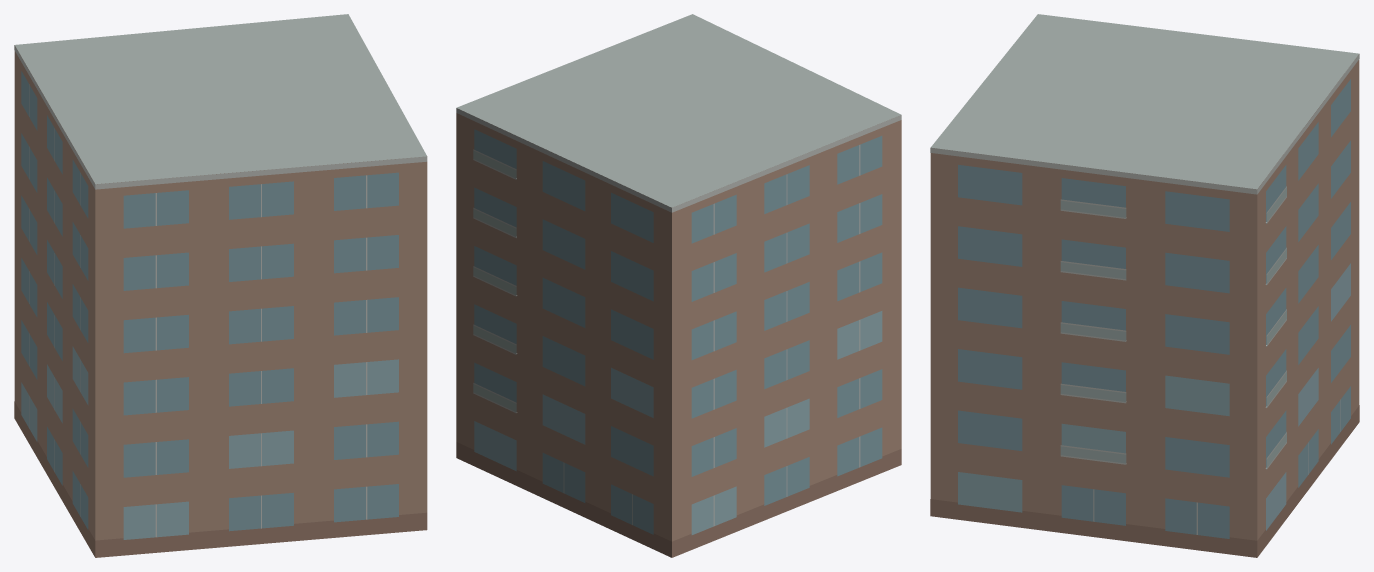
Rendered from survey-upis-32873955.glb.
3 renders of one model, left to right at view 1: azimuth 30°, elevation 25°; view 2: azimuth 150°, elevation 25°; view 3: azimuth 270°, elevation 25°, orthographic. The views are drawn at different scales.
Parts seen in each view (by area): view 1: survey-upis-32873955.tmp; view 2: survey-upis-32873955.tmp; view 3: survey-upis-32873955.tmp.
Part boxes in pixels (box(x1,y1,x2,y2)): survey-upis-32873955.tmp: box(14, 14, 427, 557); survey-upis-32873955.tmp: box(456, 14, 901, 557); survey-upis-32873955.tmp: box(930, 14, 1359, 557).
Bounding box in the file's own units: 17.46 × 17.1 × 18.05.
